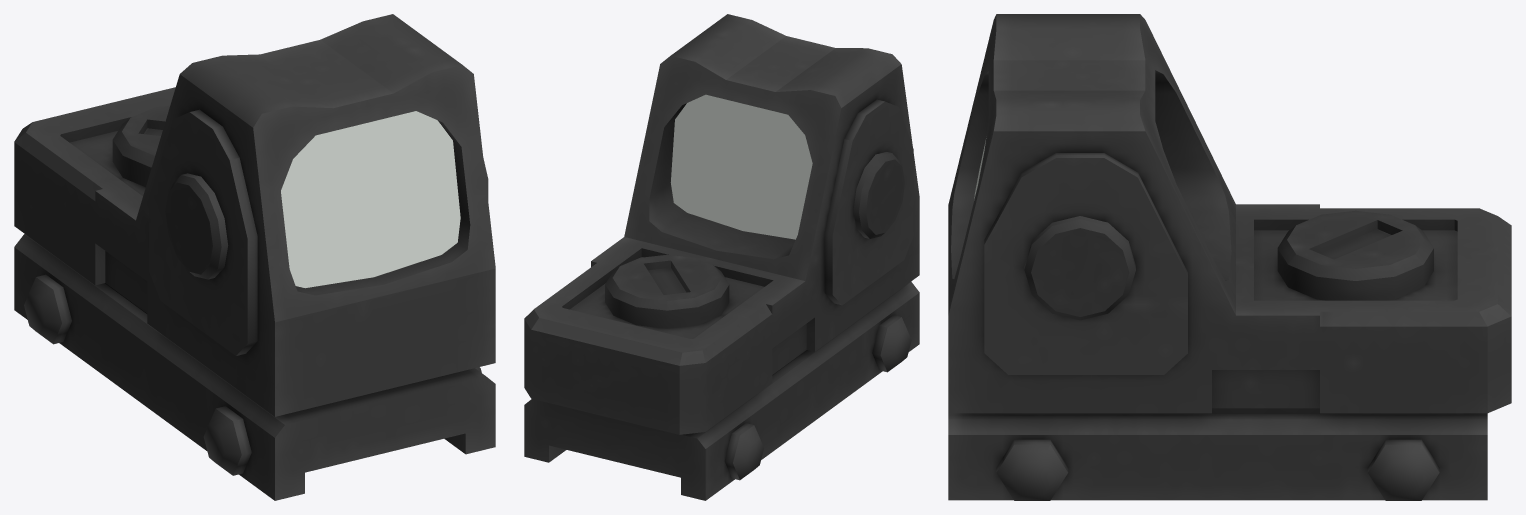
Rendered from pistol_red_dot_sight_2.fbx.
The picture shows the model from 3 angles, left to right: view 1: azimuth 30°, elevation 25°; view 2: azimuth 150°, elevation 25°; view 3: azimuth 270°, elevation 25°; orthographic projection. The views are drawn at different scales.
Parts seen in each view (by area): view 1: Optic_Pistol_A, Optic_Pistol_A.001; view 2: Optic_Pistol_A, Optic_Pistol_A.001; view 3: Optic_Pistol_A.
Part boxes in pixels (left/top/right/bottom): Optic_Pistol_A: left=14, top=14, right=495, bottom=500; Optic_Pistol_A.001: left=281, top=111, right=460, bottom=288; Optic_Pistol_A: left=524, top=14, right=919, bottom=500; Optic_Pistol_A.001: left=670, top=94, right=812, bottom=239; Optic_Pistol_A: left=948, top=14, right=1511, bottom=500.
Bounding box in the file's own units: 9.9 × 13.13 × 17.63.
